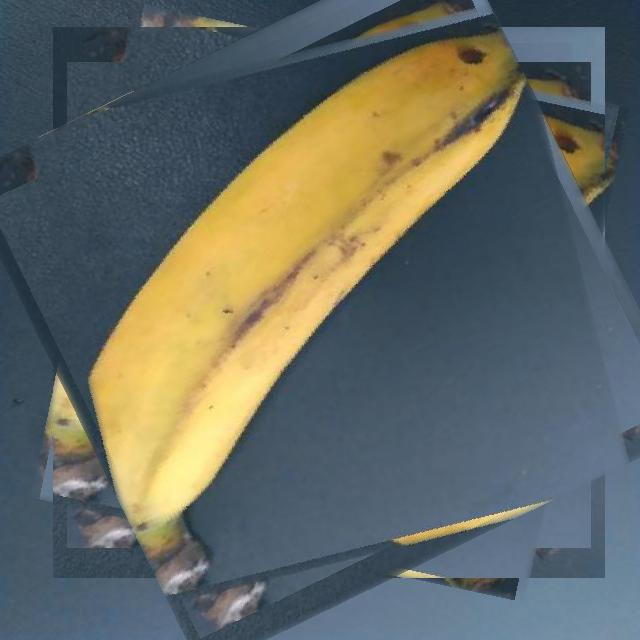Madura: (7, 0, 640, 624)
